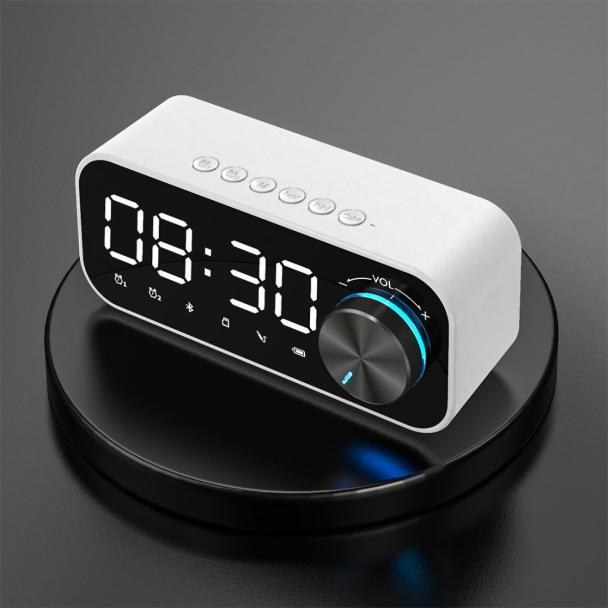Jam: (77, 134, 460, 432)
